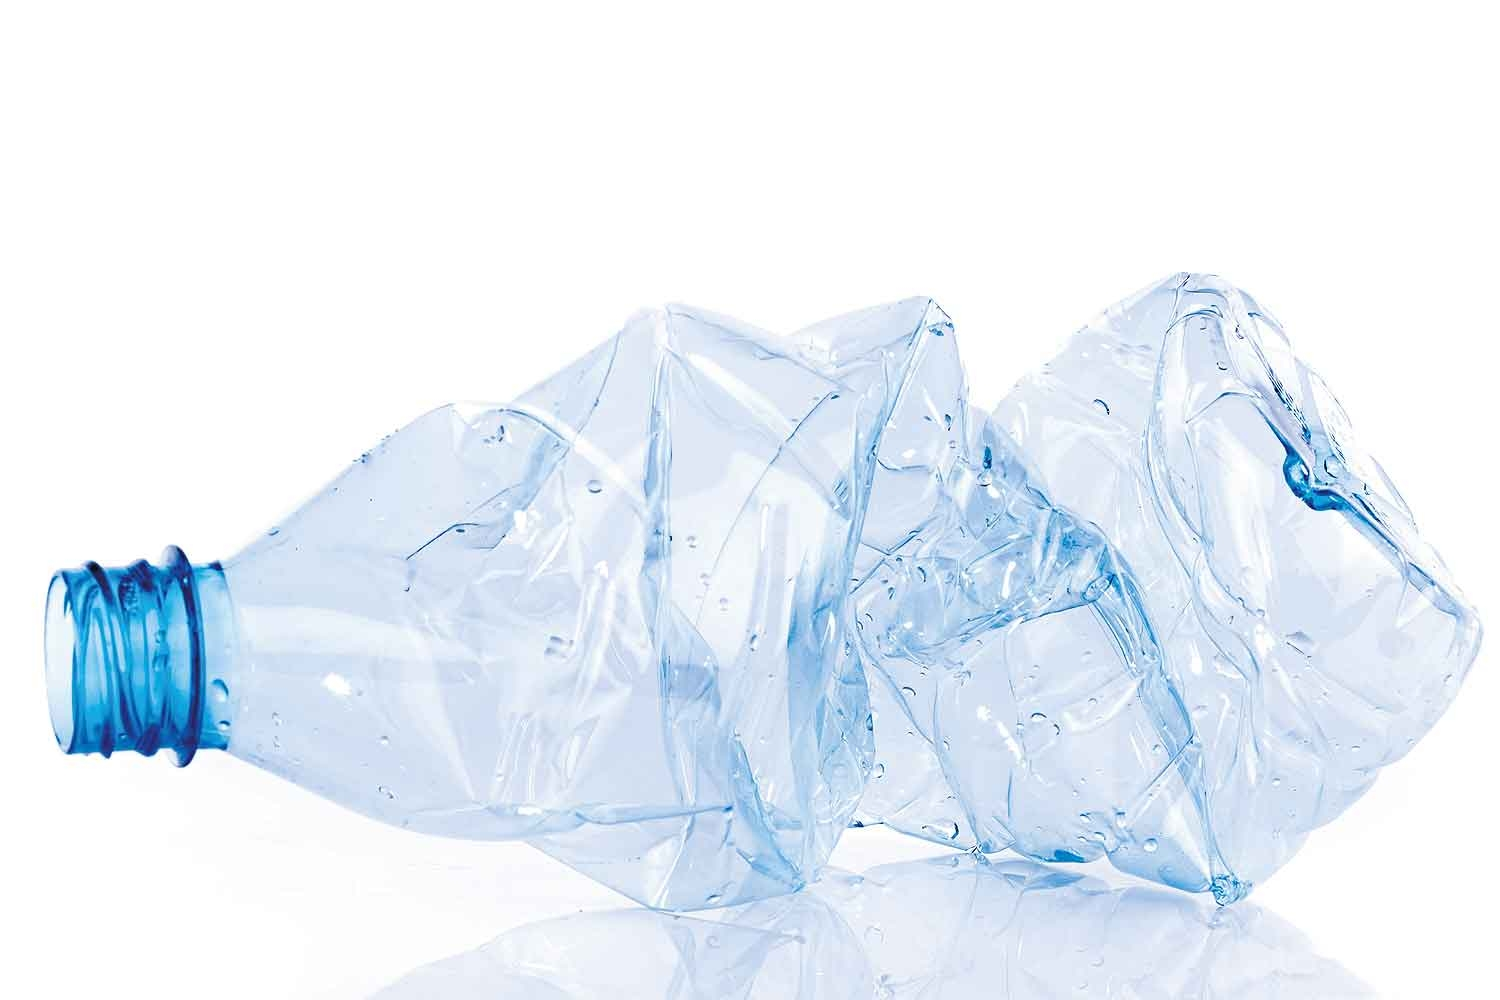plastic: (32, 230, 1483, 937)
